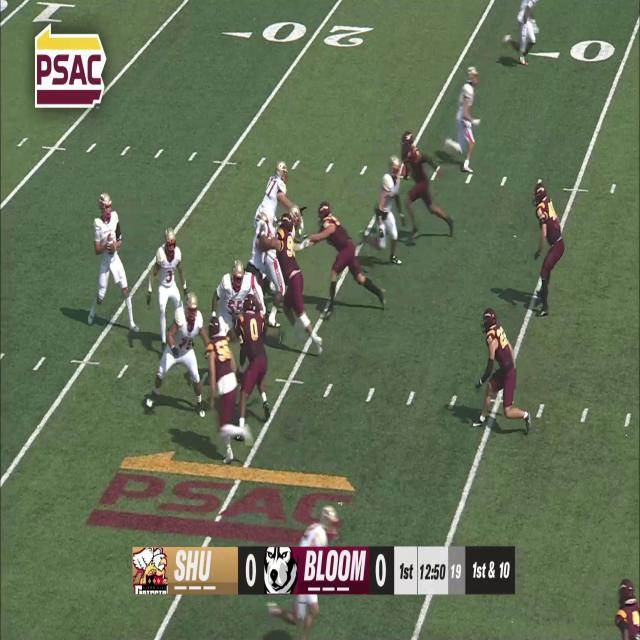football: (106, 238, 117, 258)
